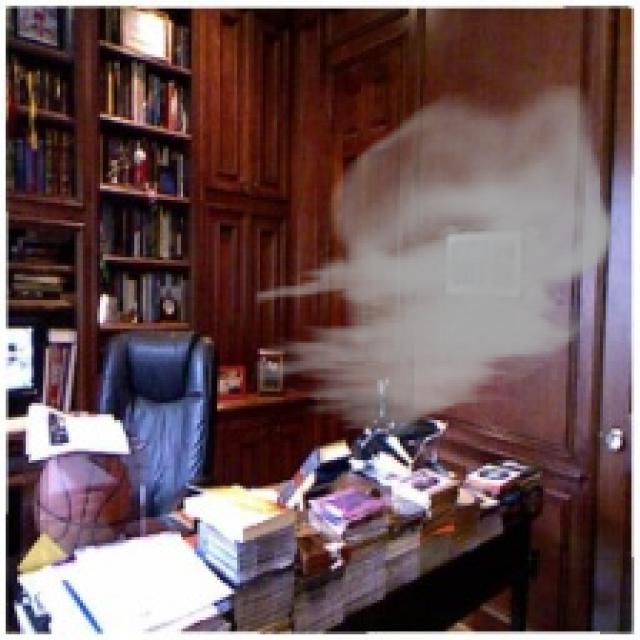Smoke: (255, 83, 614, 440)
